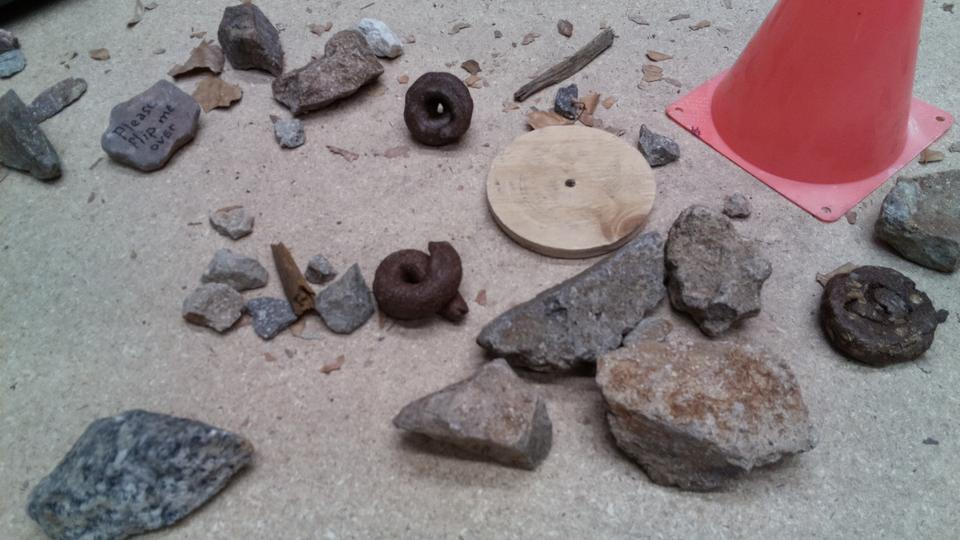poop: (817, 263, 942, 368), (371, 239, 473, 328), (402, 72, 474, 149)
